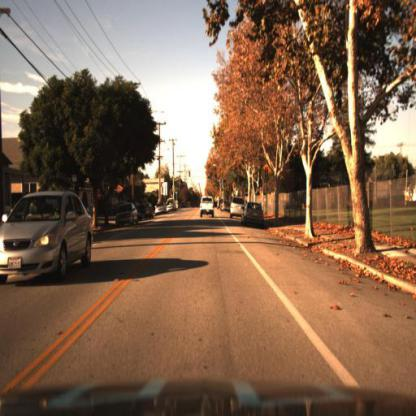car: (1, 192, 95, 285), (241, 201, 268, 232), (114, 202, 139, 234), (241, 200, 267, 229), (136, 200, 158, 227), (197, 194, 217, 222), (227, 193, 247, 220), (153, 200, 169, 219)
